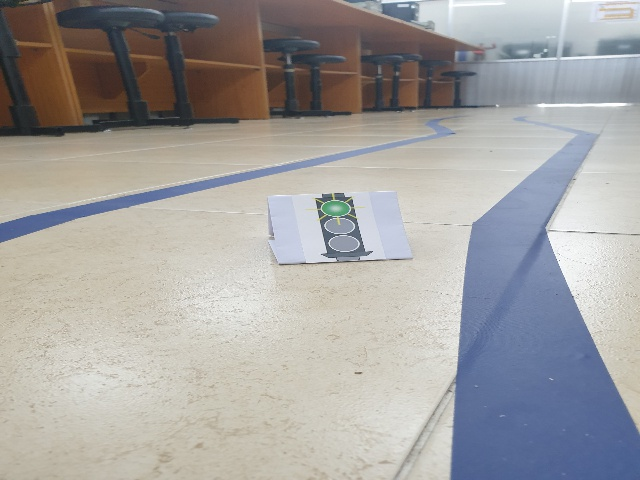Green Light: (300, 193, 378, 263)
